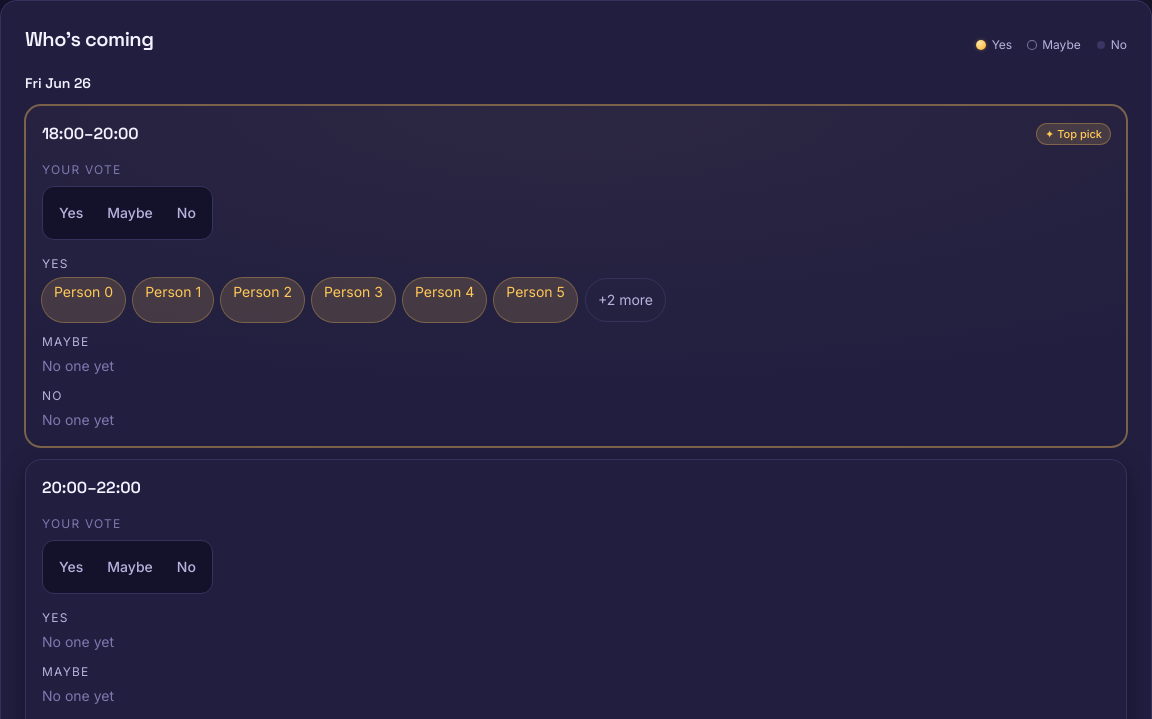
Test case: ParticipantMatrix (mobile card stack) › collapses overflow names behind an accessible +N more button that expands on tap
The image size is (1152, 719).
Expected: the text "Person 7" is not shown
Click the button "+2 more": (625, 300) [585,278,666,322]
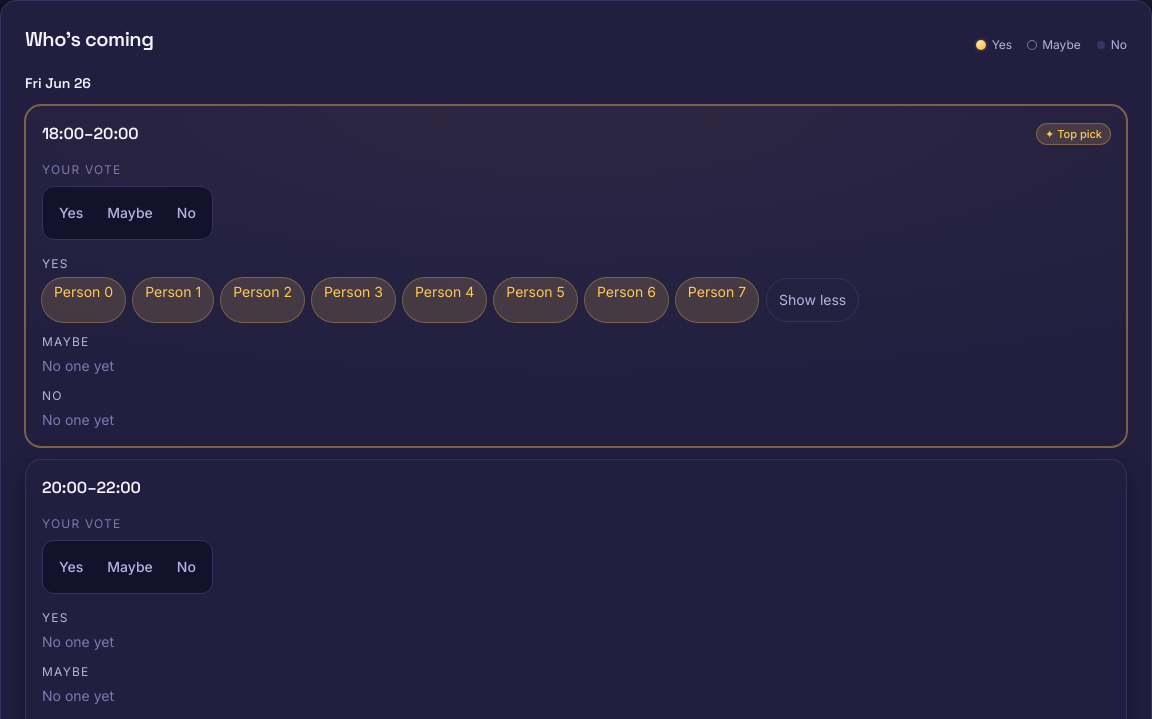
Expected: the element that starts with "✦ Top pick" shows "Person 7", [688,283,746,300]
Expected: the button "Show less" is expanded, [766,278,859,322]
